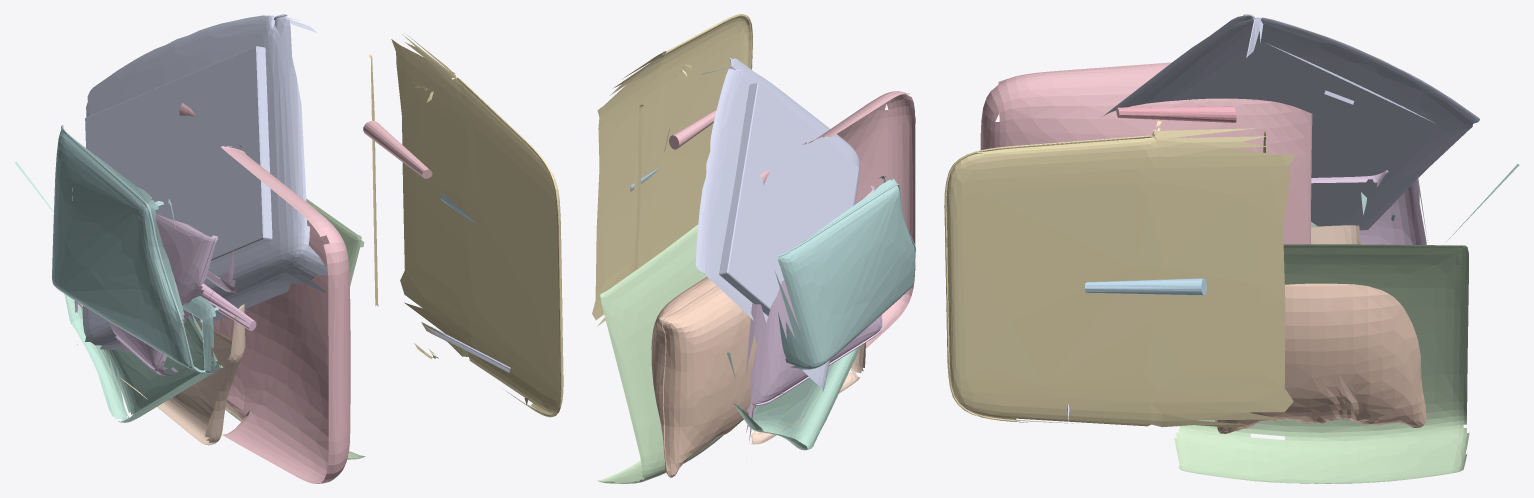
The model's file is view_input_colored.glb.
3 renders of one model, left to right at view 1: azimuth 30°, elevation 25°; view 2: azimuth 150°, elevation 25°; view 3: azimuth 270°, elevation 25°, orthographic. The views are drawn at different scales.
Parts seen in each view (by area): view 1: world; view 2: world; view 3: world.
Part boxes in pixels (box(x1,y1,x2,y2)): world: box(14, 14, 563, 483); world: box(592, 14, 915, 483); world: box(944, 14, 1519, 483).
Bounding box in the file's own units: 0.6049 × 0.7978 × 0.9293.
